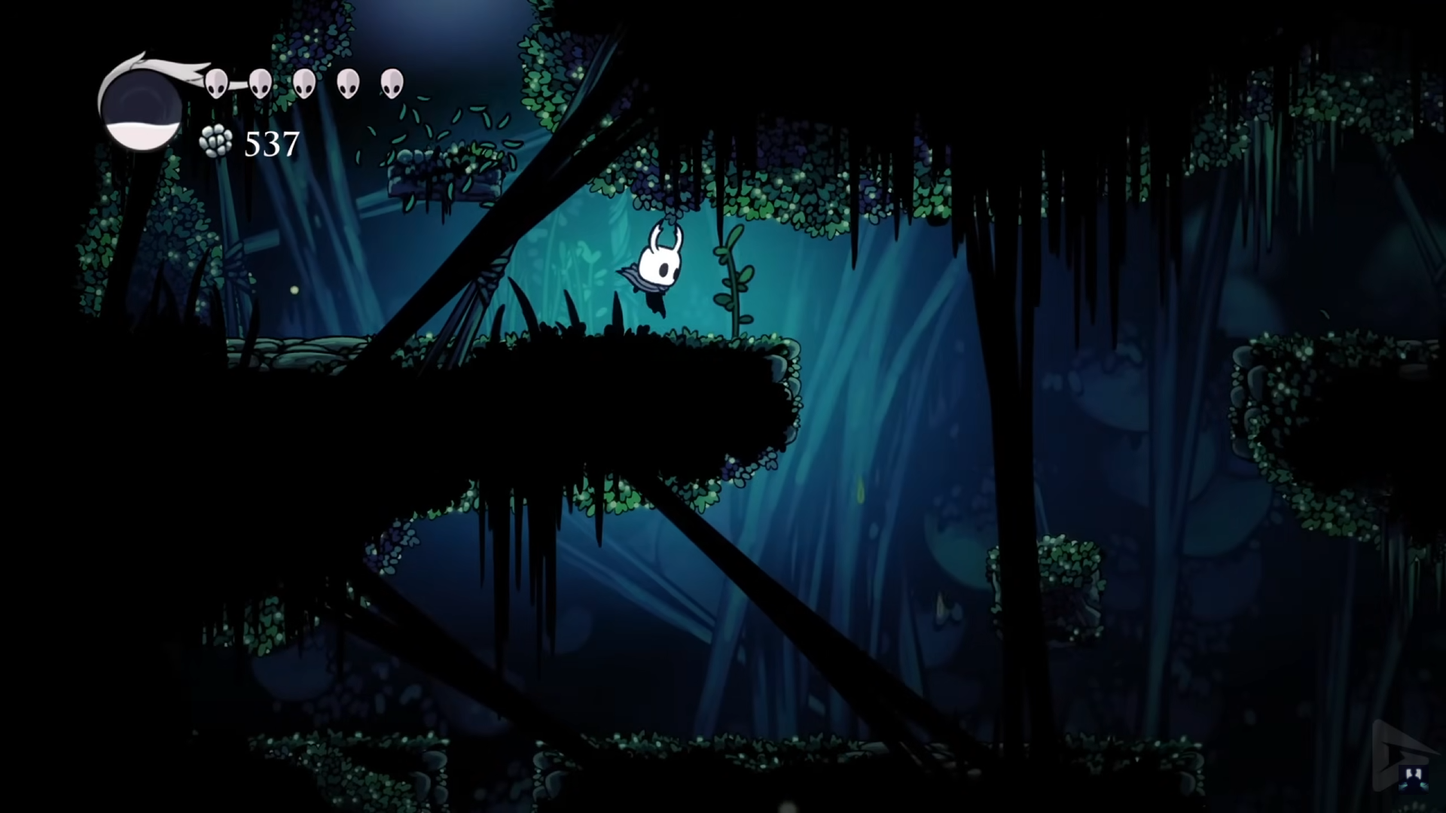HK: (624, 219, 685, 321)
